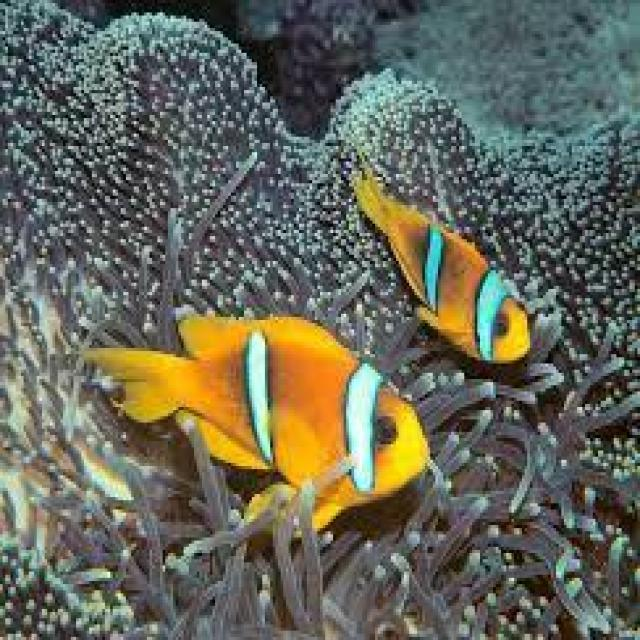Clownfish: (106, 304, 423, 524), (357, 174, 529, 359)
